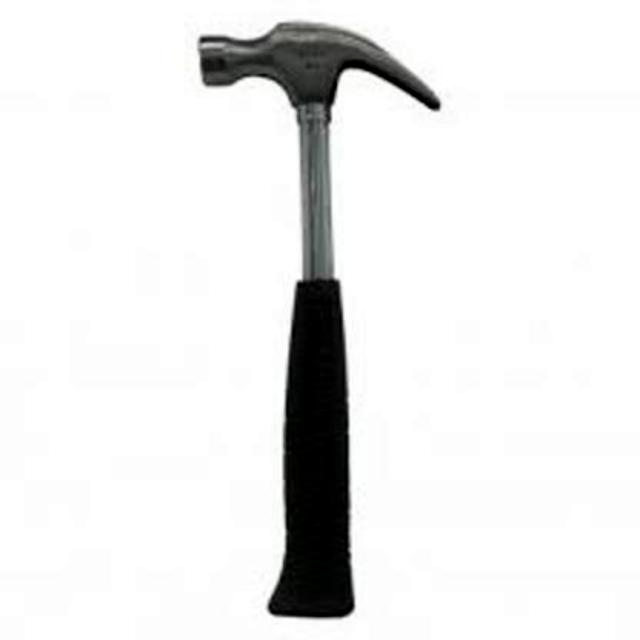hammer: (176, 20, 448, 628)
